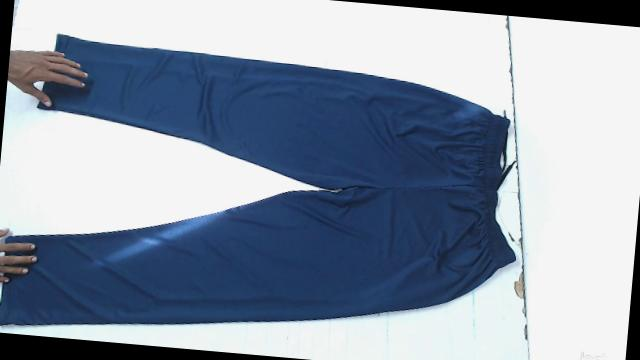new-garment: (0, 35, 513, 324)
